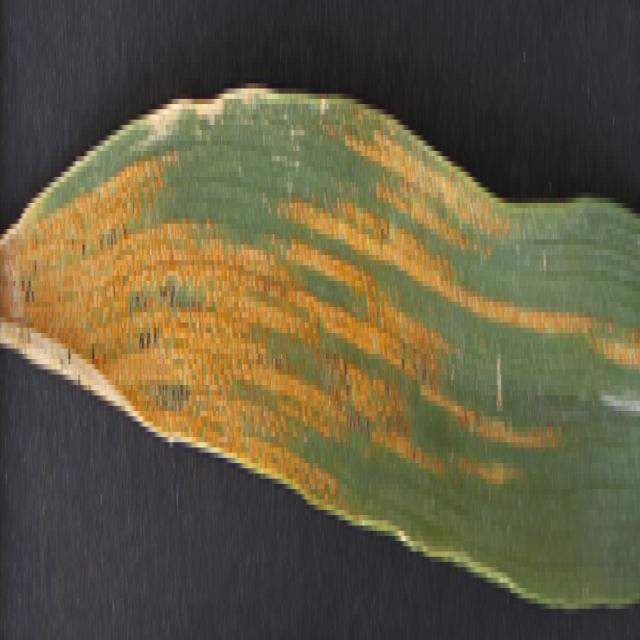leaf rust: (18, 109, 640, 526)
